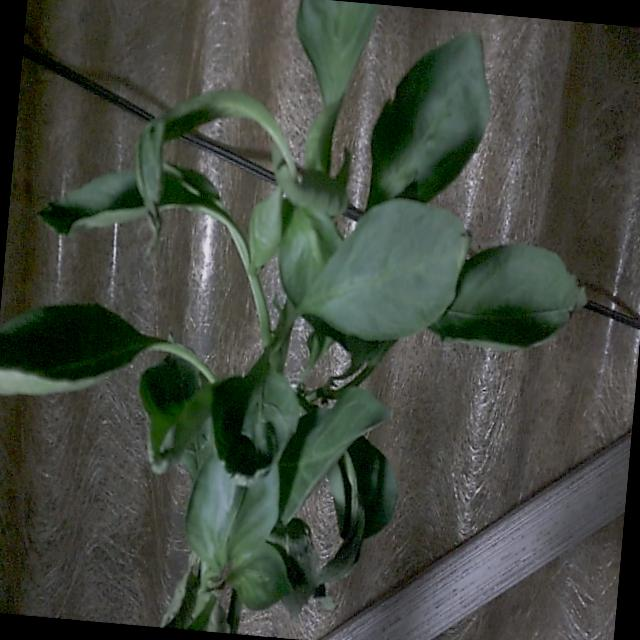Leaf: (300, 188, 472, 347), (366, 20, 499, 217), (431, 234, 592, 358), (0, 292, 161, 411), (207, 364, 309, 488)
